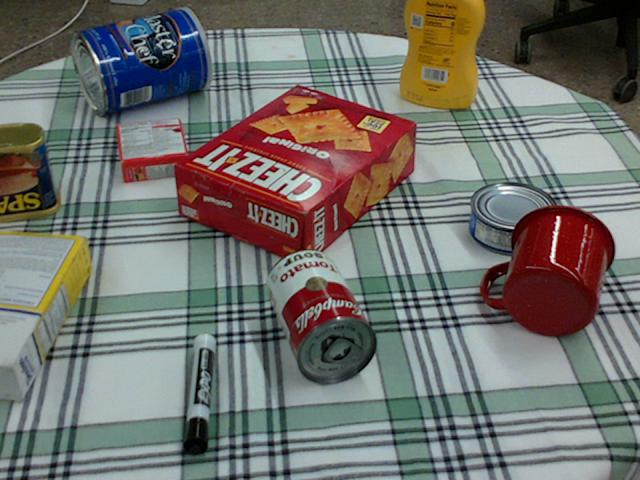cracker_box: (173, 85, 417, 265)
gelatin_box: (116, 118, 190, 184)
large_marker: (181, 334, 216, 457)
master_chef_can: (71, 8, 212, 117)
mug: (483, 203, 615, 335)
mustard_bottle: (399, 0, 484, 109)
potted_meat_can: (0, 122, 61, 221)
sugar_box: (0, 232, 88, 397)
tomato_soup_can: (266, 246, 377, 382)
tuna_fish_can: (470, 181, 559, 254)
